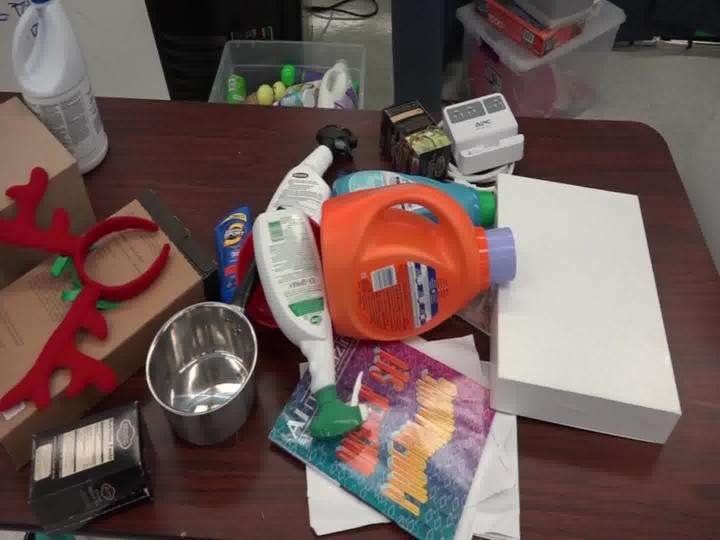tide: (296, 164, 521, 344)
